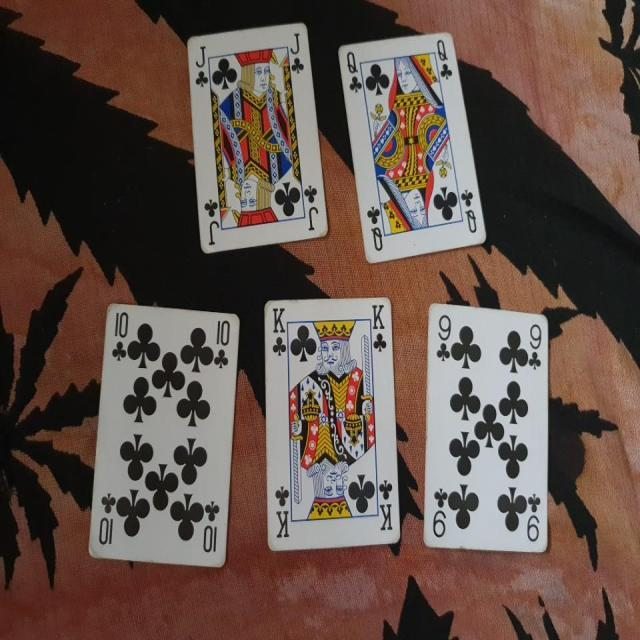10 of clubs: (88, 302, 240, 572)
9 of clubs: (423, 301, 551, 554)
jack of clubs: (186, 21, 331, 252)
king of clubs: (262, 294, 402, 551)
queen of clubs: (337, 32, 488, 262)
